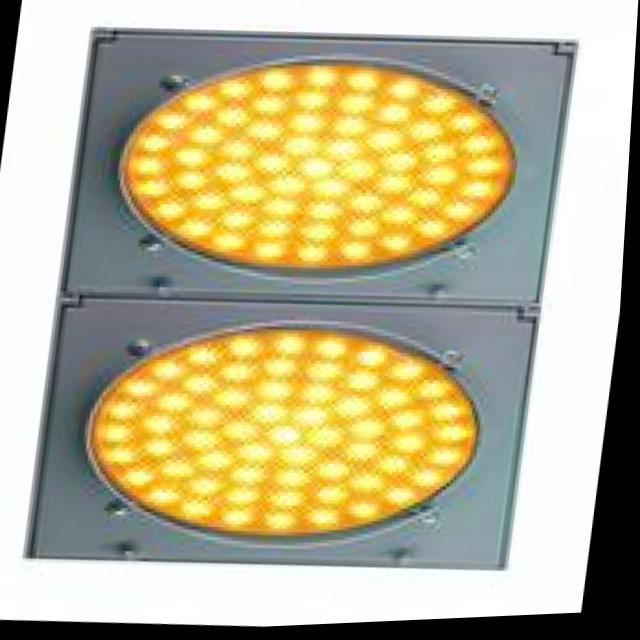yellow_light: (23, 279, 559, 638), (71, 0, 583, 321)
